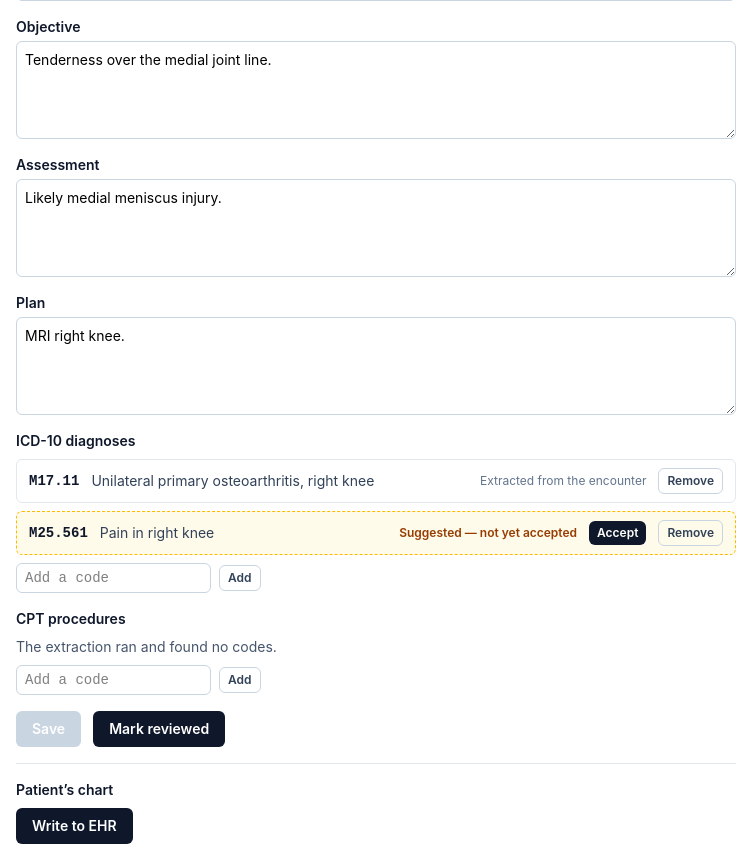
Scenario: writing to the chart › shows a 409 as already filed
This screenshot has width=753, height=865.
(page scrolled)
Expected: the text box with test id "section-soapPlan" is shown, [16,317,736,415]
Click the button with test id "write-to-ehr": x=74, y=826 [16,808,133,844]
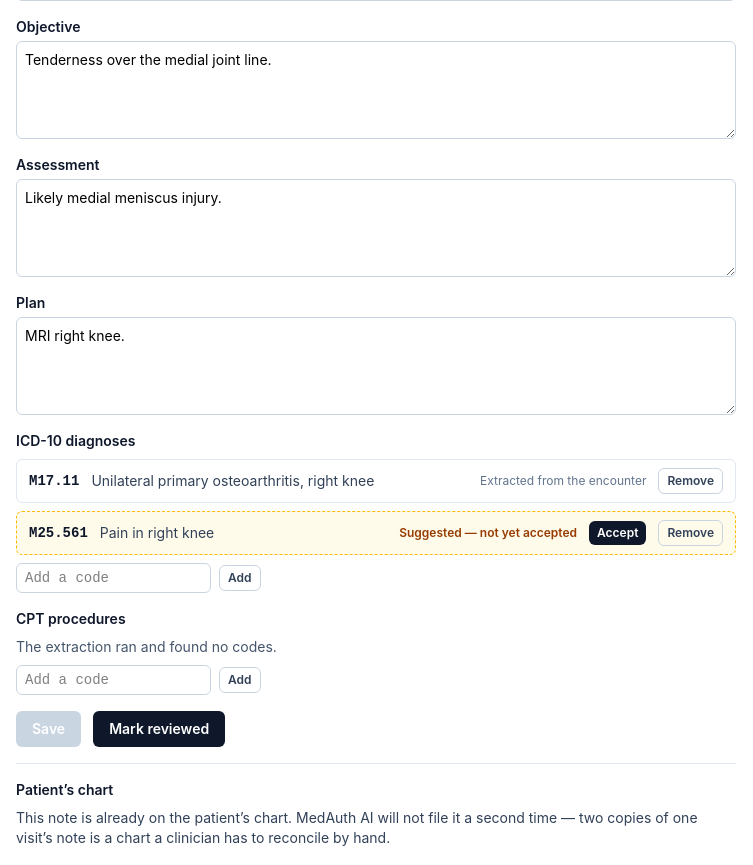
Now the text with test id "write-filed" is shown, box [16,808,736,848]
